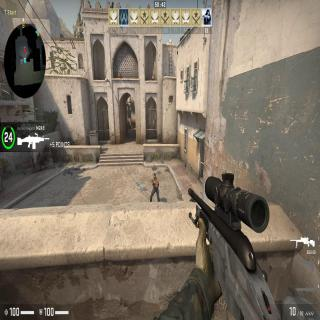T-Body: (150, 172, 160, 202)
T-Head: (154, 173, 156, 179)
